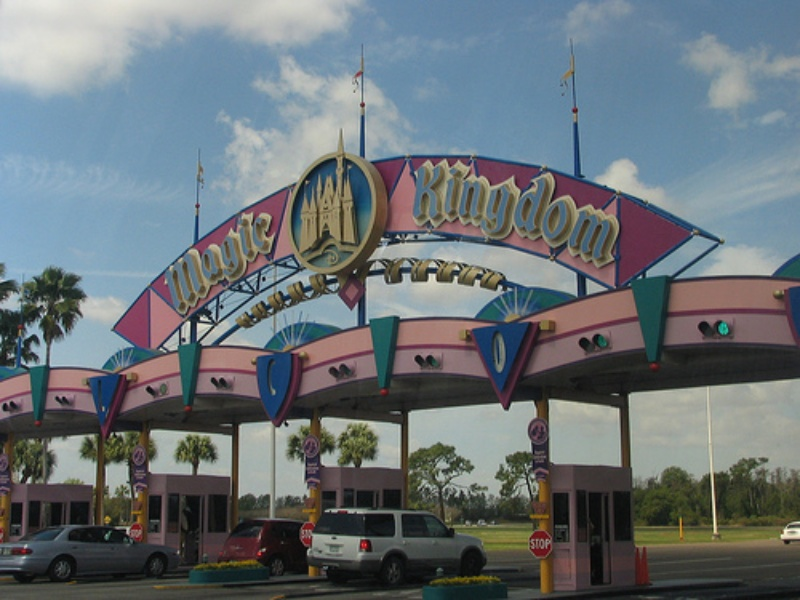car: (307, 507, 486, 585), (1, 523, 181, 581), (217, 518, 307, 573), (781, 521, 800, 544)
